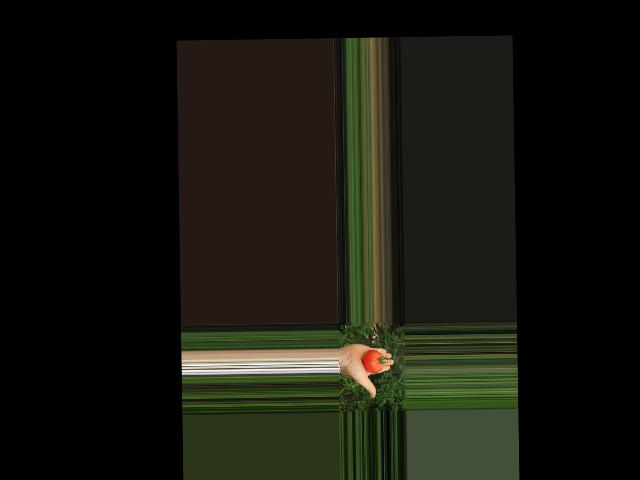tomato: (362, 348, 383, 373)
